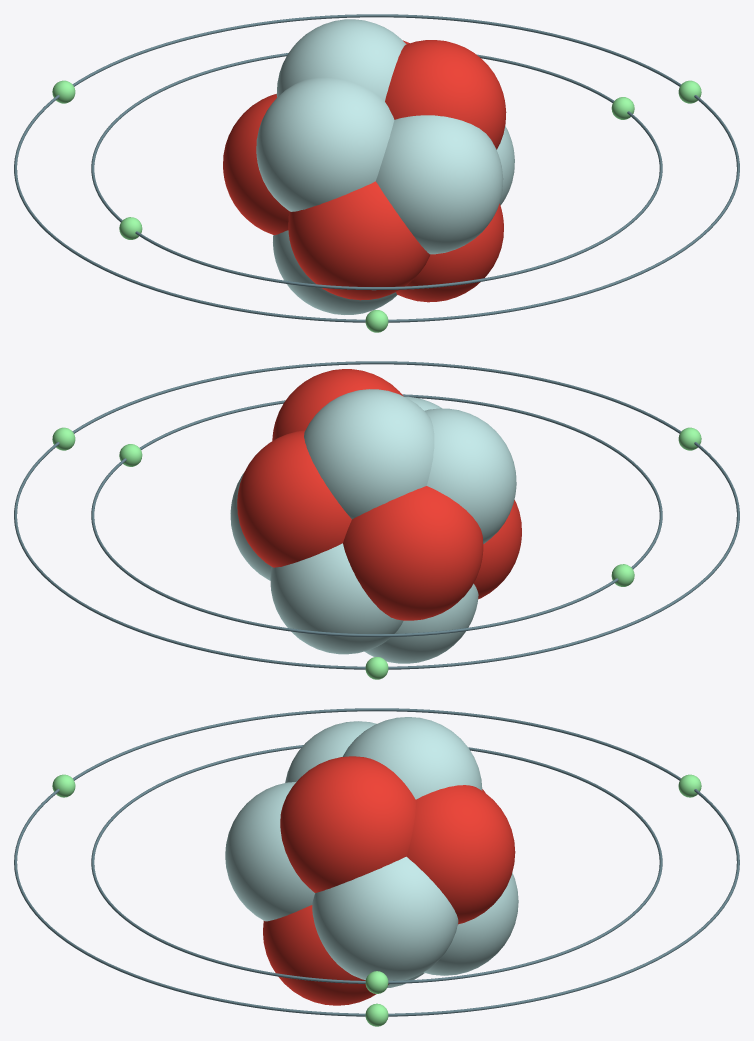
The model's file is boron.glb.
3 renders of one model, top to bottom at view 1: azimuth 30°, elevation 25°; view 2: azimuth 150°, elevation 25°; view 3: azimuth 270°, elevation 25°, orthographic.
Visible parts, largest first — view 1: element_005_boron; view 2: element_005_boron; view 3: element_005_boron.
Boxes of the visible parts, <box> form: element_005_boron: <box>14,14,739,332</box>; element_005_boron: <box>14,361,739,679</box>; element_005_boron: <box>14,708,739,1026</box>.
Bounding box in the file's own units: 8.48 × 3.4 × 8.37.
